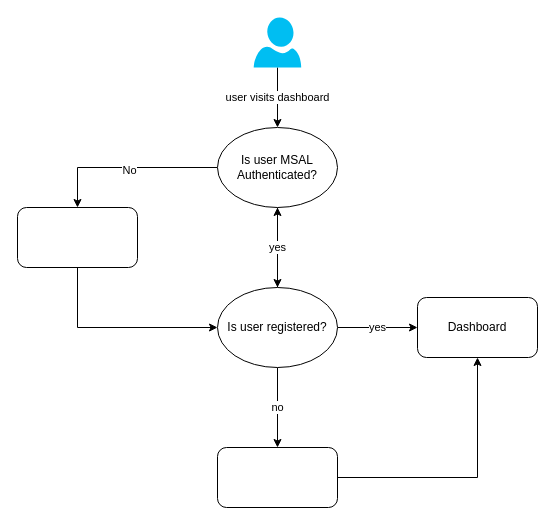
This 555x525 diagram has some shape labels left out. Each missing label, with the centre of its shape:
"Login" belongs at point (77, 237).
"Registration" belongs at point (277, 477).
